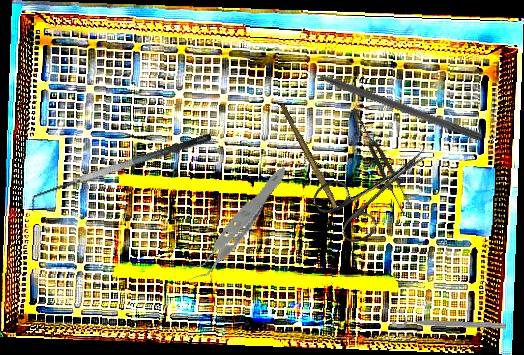Fixation Ring: (391, 310, 507, 332)
Iris Scissors: (308, 123, 446, 252)
Pusher: (288, 58, 485, 143)
Scalpel Handle: (277, 102, 342, 210)
Spatula Surgical: (25, 131, 217, 213)
Tissue Forceps: (159, 165, 311, 284), (348, 104, 414, 215)
